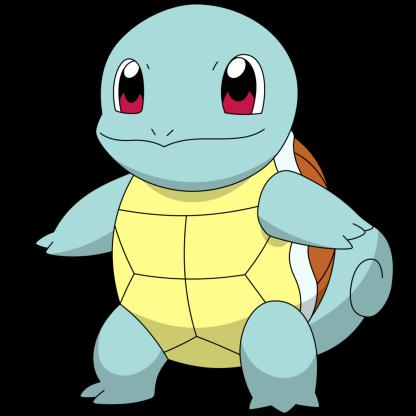Squirtle: (24, 4, 416, 416)
